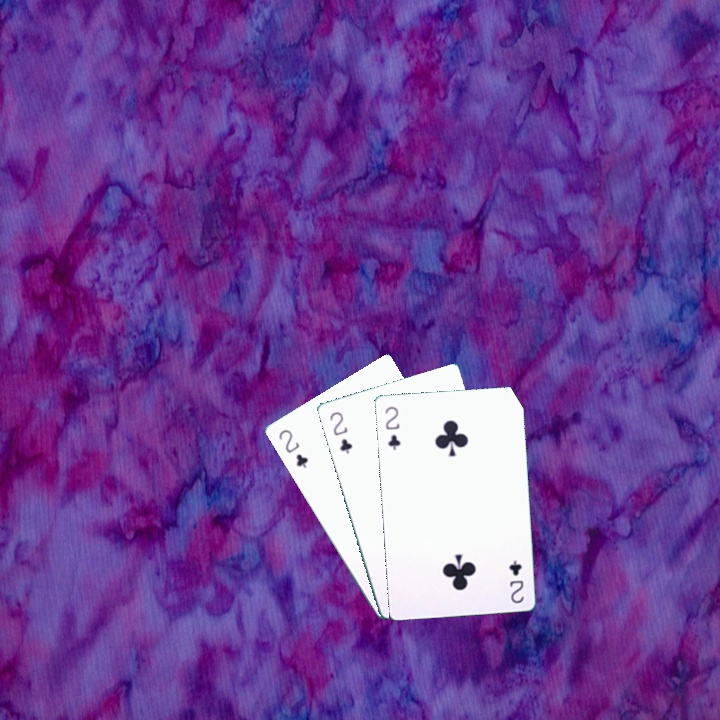2c: (274, 425, 311, 470), (326, 407, 355, 456), (381, 402, 403, 453), (505, 556, 526, 606)
